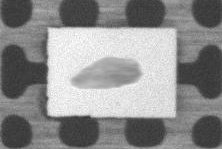DIE_INK: (70, 54, 142, 91)
